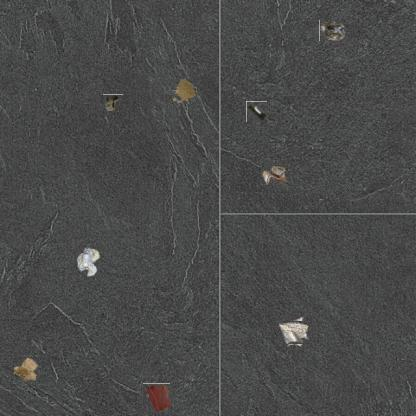dirty: (280, 318, 309, 347), (75, 246, 101, 278), (11, 356, 39, 382), (262, 164, 290, 186), (319, 19, 346, 41), (246, 101, 267, 122), (103, 94, 124, 111)
liquid: (142, 383, 171, 412), (172, 78, 196, 104)
